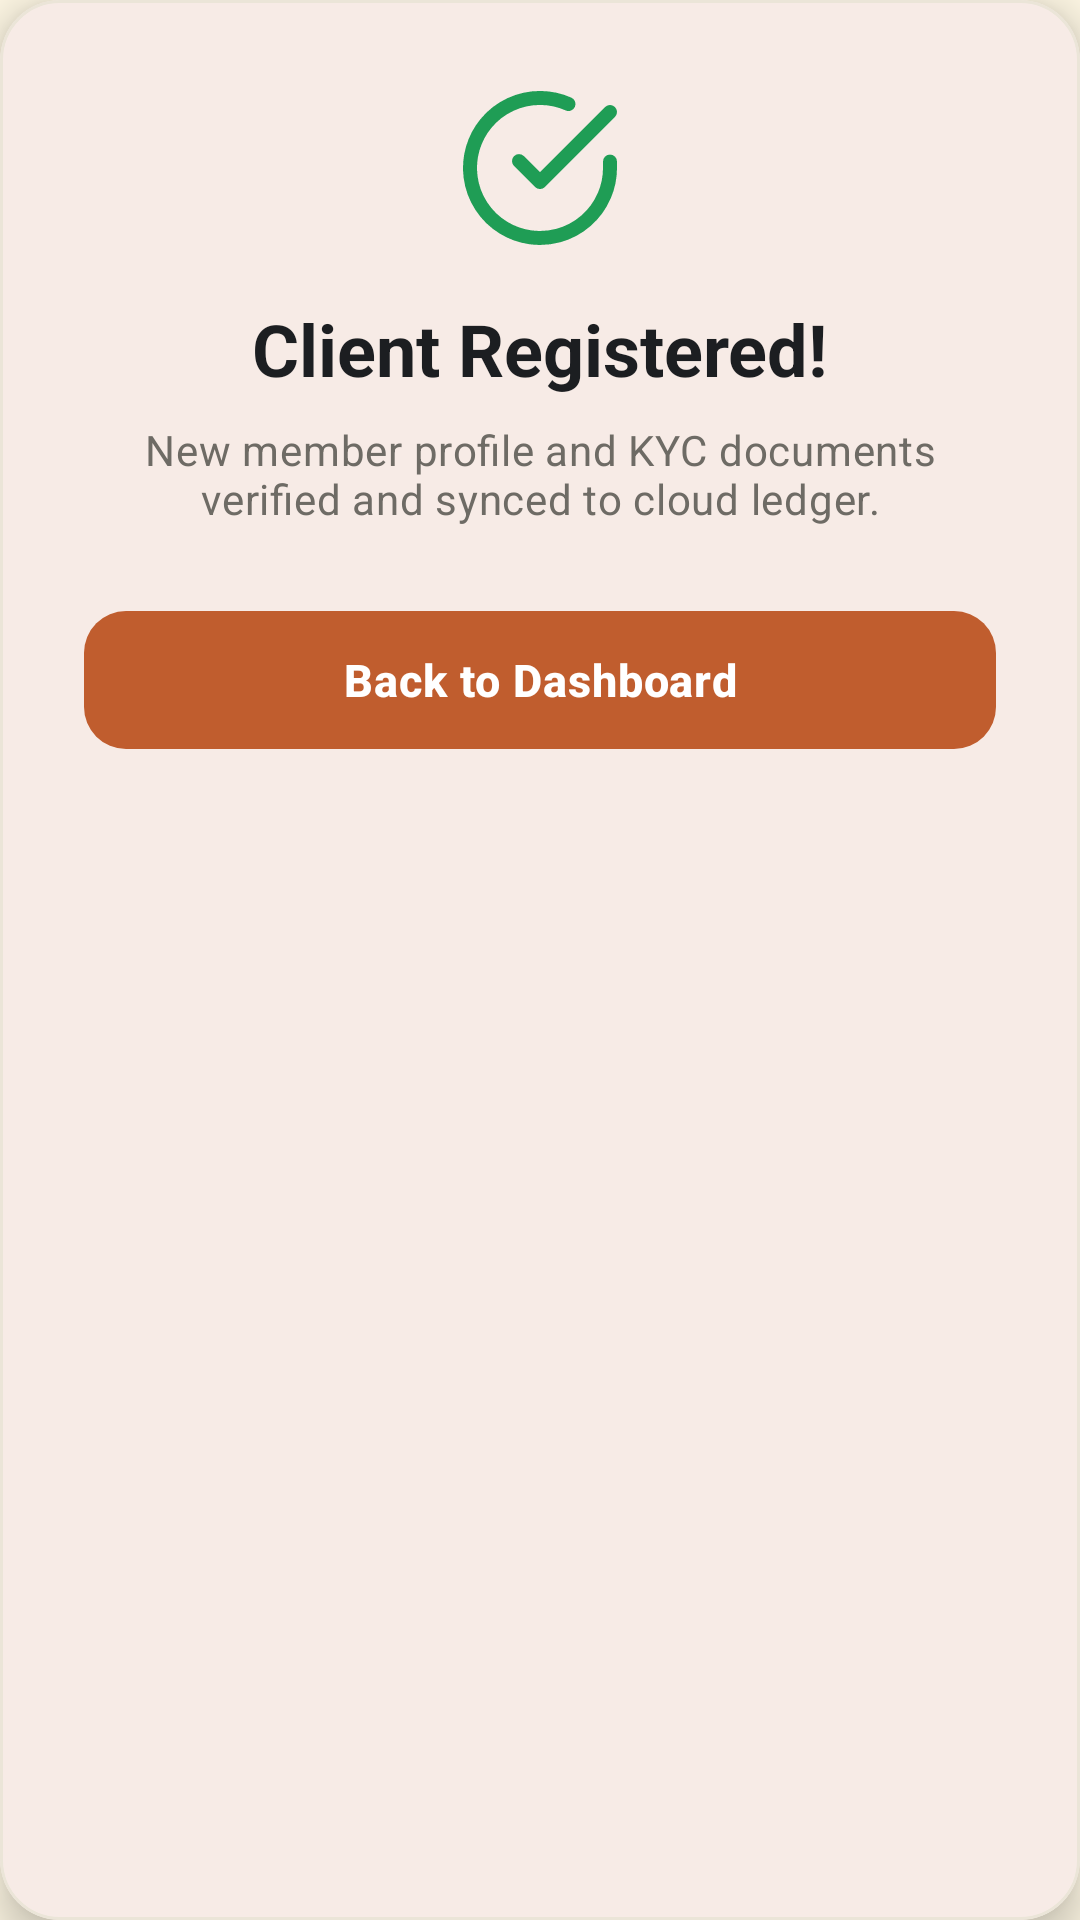

Screen size 1080×1920. Icon name, then its box in pixels as (x1, y1, x2, y2):
check circle: (463, 91, 617, 245)
